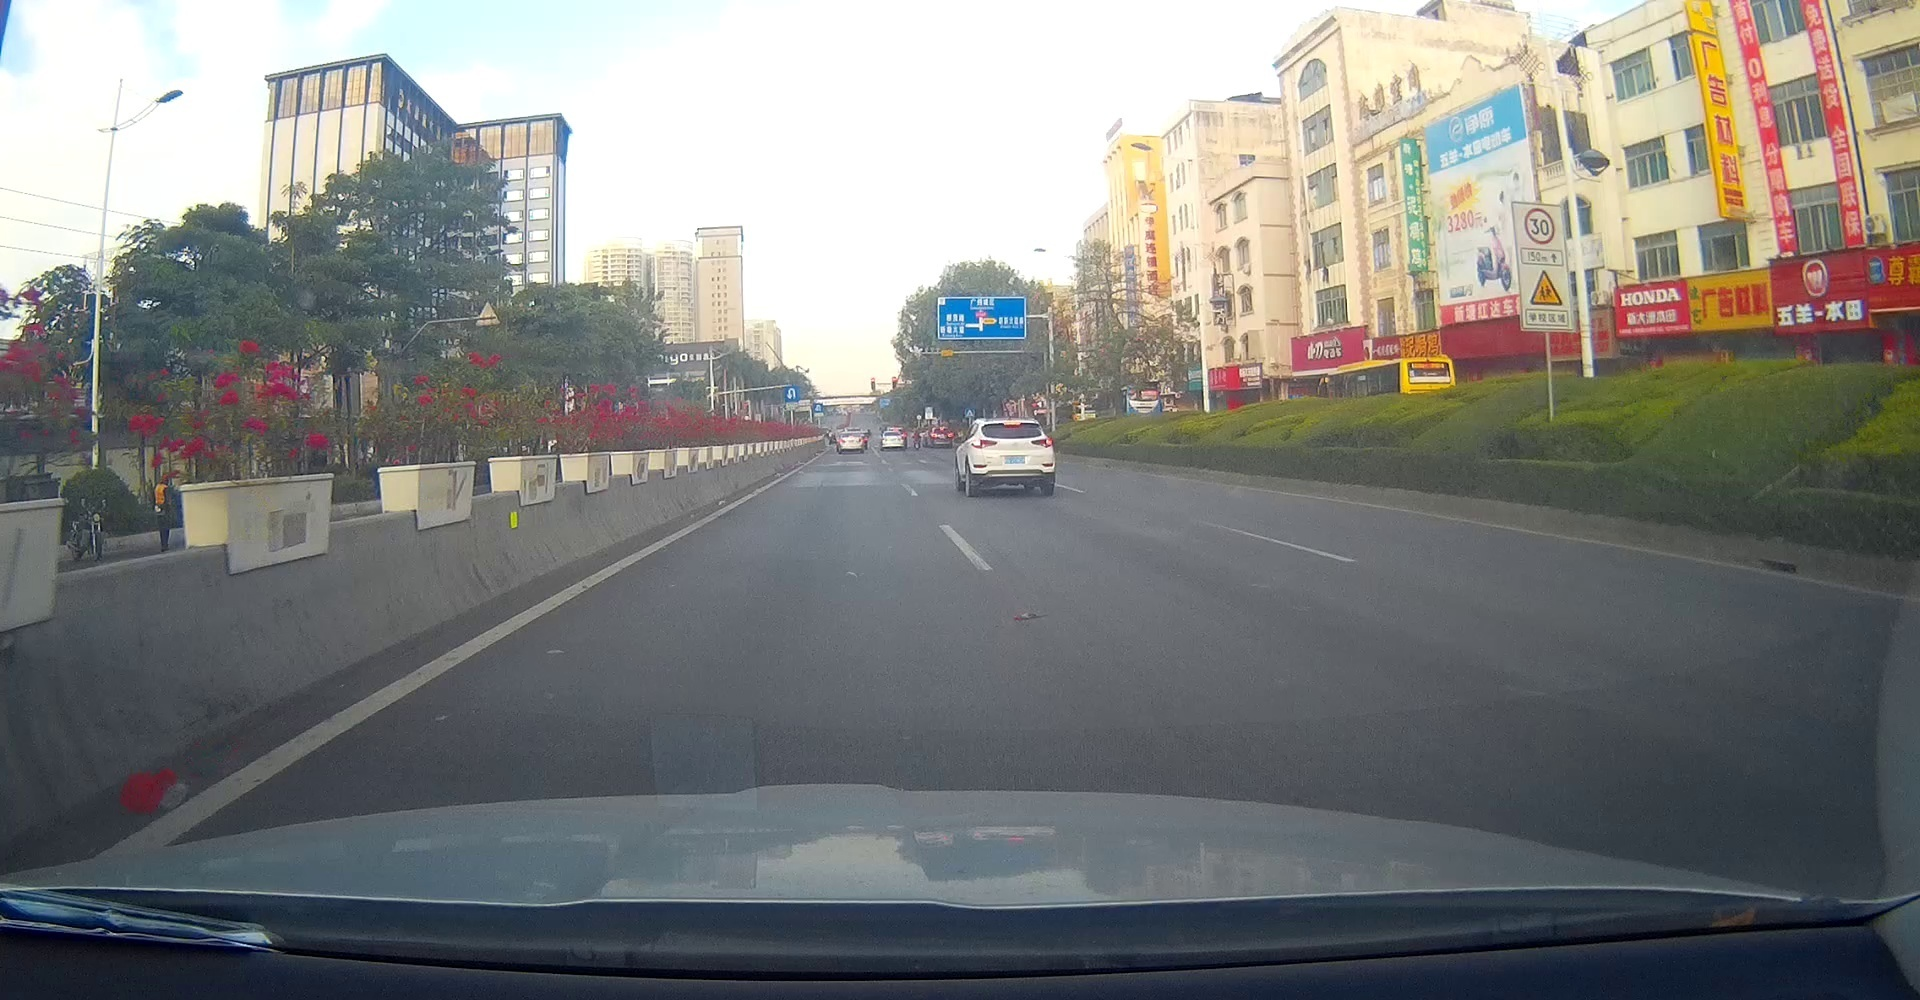L_light: (971, 439, 998, 449), (839, 439, 846, 443), (931, 434, 937, 438), (881, 437, 886, 440)
R_light: (1031, 438, 1053, 448), (947, 433, 952, 437), (858, 439, 865, 442), (900, 437, 905, 439)
T_light: (1004, 421, 1021, 426), (938, 429, 945, 431), (850, 433, 855, 435), (891, 431, 897, 433)
day-brake: (970, 418, 1057, 497), (930, 426, 954, 447)
day-no: (838, 431, 865, 454), (881, 431, 905, 451)
